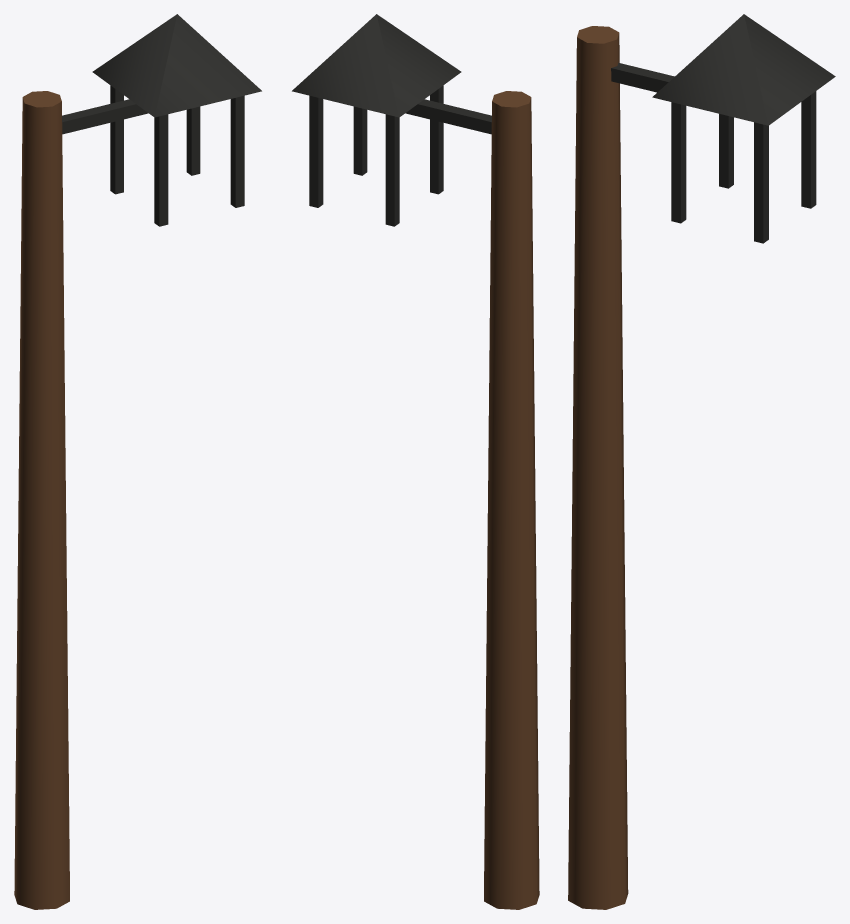
File: lantern.glb
3 views of the same model, side by side, from view 1: azimuth 30°, elevation 25°; view 2: azimuth 150°, elevation 25°; view 3: azimuth 330°, elevation 25° (orthographic). The views are drawn at different scales.
Visible parts, largest first — view 1: part_0, part_1; view 2: part_0, part_1; view 3: part_0, part_1.
Part boxes in pixels (box(x1,y1,x2,y2)): part_0: box(14, 91, 69, 909); part_1: box(62, 14, 261, 226); part_0: box(484, 91, 539, 909); part_1: box(292, 14, 491, 226); part_0: box(568, 26, 628, 909); part_1: box(611, 14, 835, 243).
Bounding box in the file's own units: 0.7288 × 2.77 × 0.3677.
